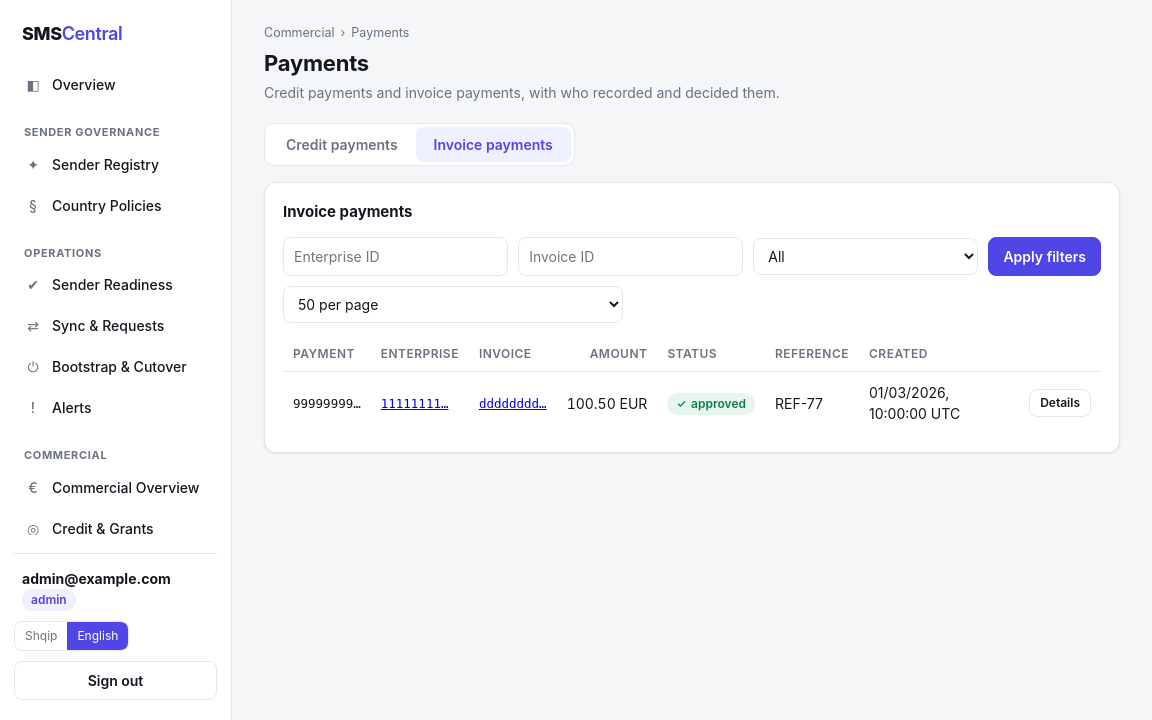
Test: payments › 12 invoice payments tab shows the invoice link and allocation
Expected: the navigation bar named "Main navigation" is shown, 14,65 -> 217,535
Step 1. Click the button with aria-label "Details for payment" → click(1060, 403), box 1029,389 -> 1091,417
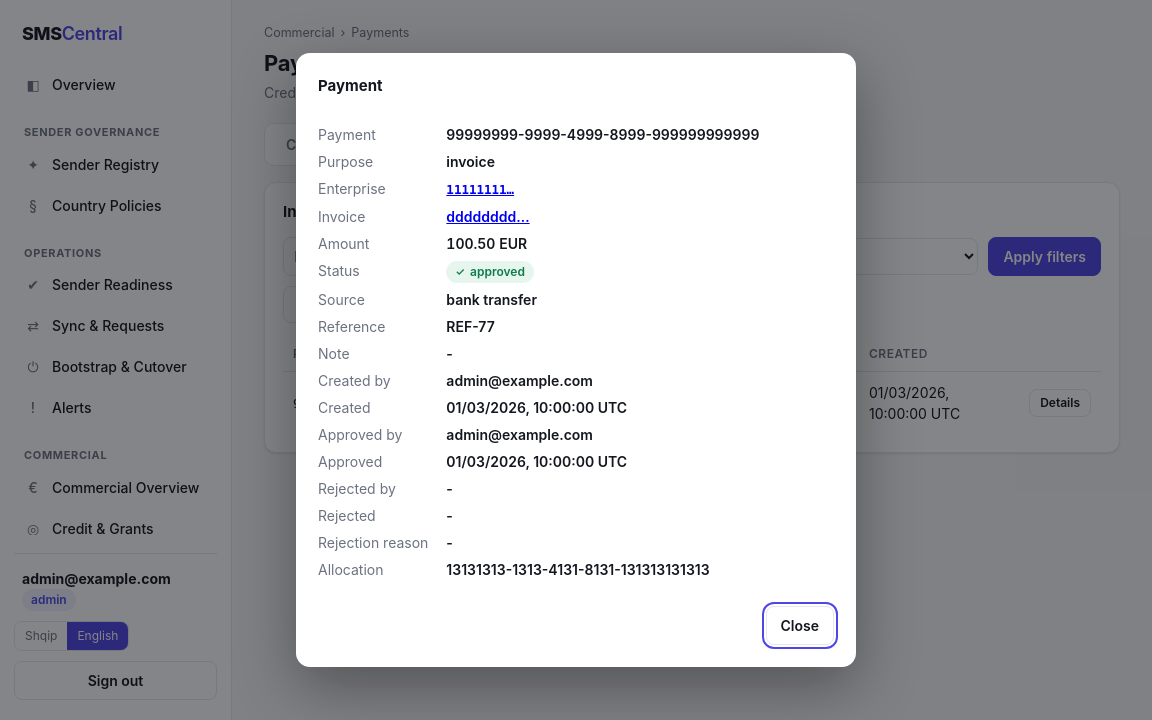
Expected: the text "13131313-1313-4131-8131-131313131313" is shown, 446,561 -> 710,578
